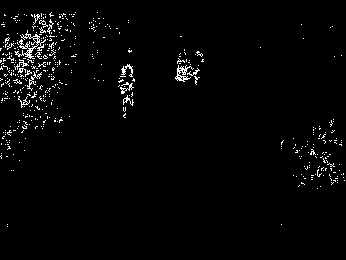person: (117, 62, 135, 121)
